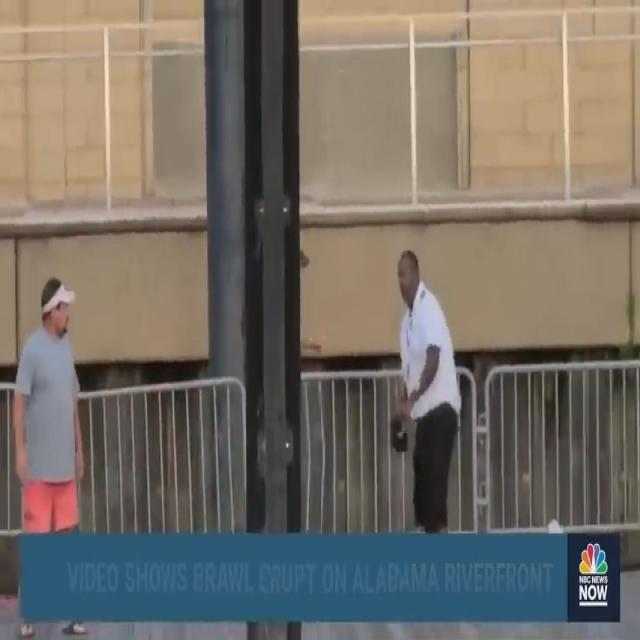non-fight: (10, 268, 89, 636), (388, 236, 461, 532)
